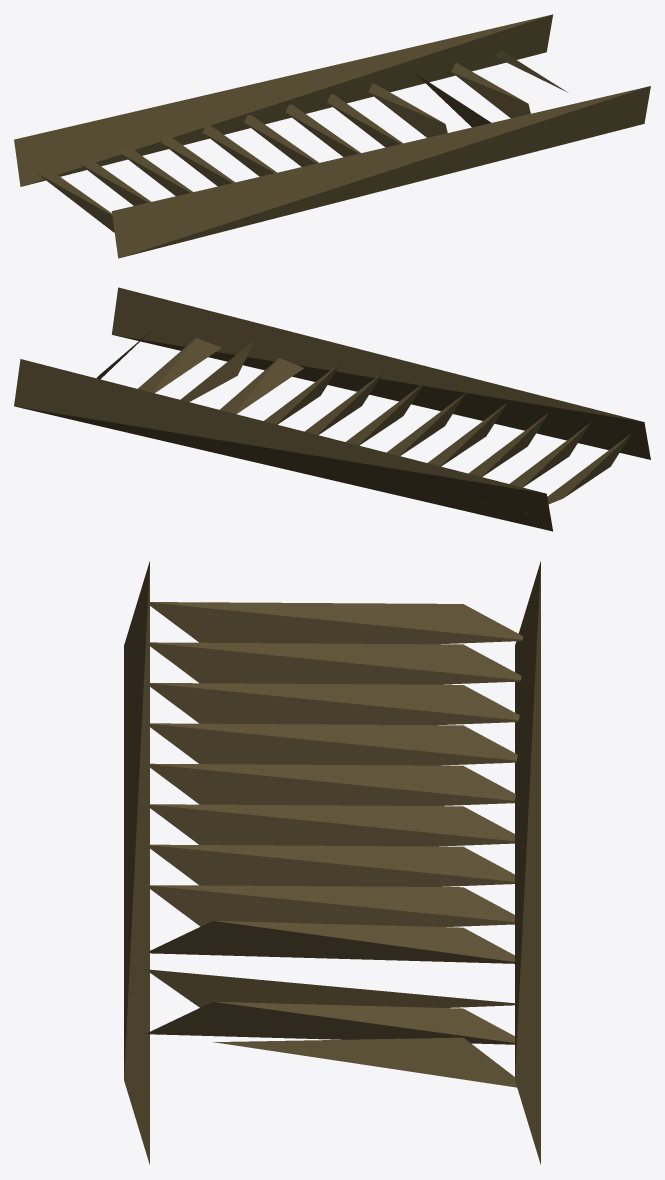
The model's file is ew-roller.lod2.glb.
3 views of the same model, one above another, from view 1: azimuth 30°, elevation 25°; view 2: azimuth 150°, elevation 25°; view 3: azimuth 270°, elevation 25° (orthographic). The views are drawn at different scales.
Parts seen in each view (by area): view 1: Conveyor_roller_1:Conveyor_roller_1_lambert1_0; view 2: Conveyor_roller_1:Conveyor_roller_1_lambert1_0; view 3: Conveyor_roller_1:Conveyor_roller_1_lambert1_0.
Boxes of the visible parts, x1,y1,x2,y2 form: Conveyor_roller_1:Conveyor_roller_1_lambert1_0: (14,14,650,258); Conveyor_roller_1:Conveyor_roller_1_lambert1_0: (14,287,650,531); Conveyor_roller_1:Conveyor_roller_1_lambert1_0: (124,561,540,1164).
Bounding box in the file's own units: 3 × 0.2296 × 1.02.
